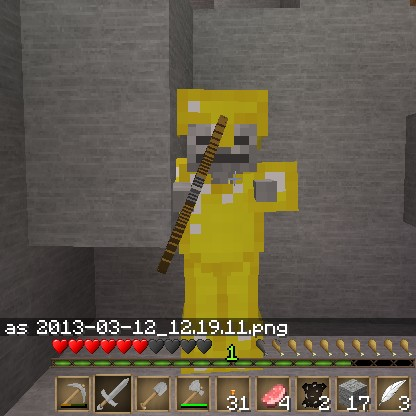skeleton: (168, 86, 294, 317)
